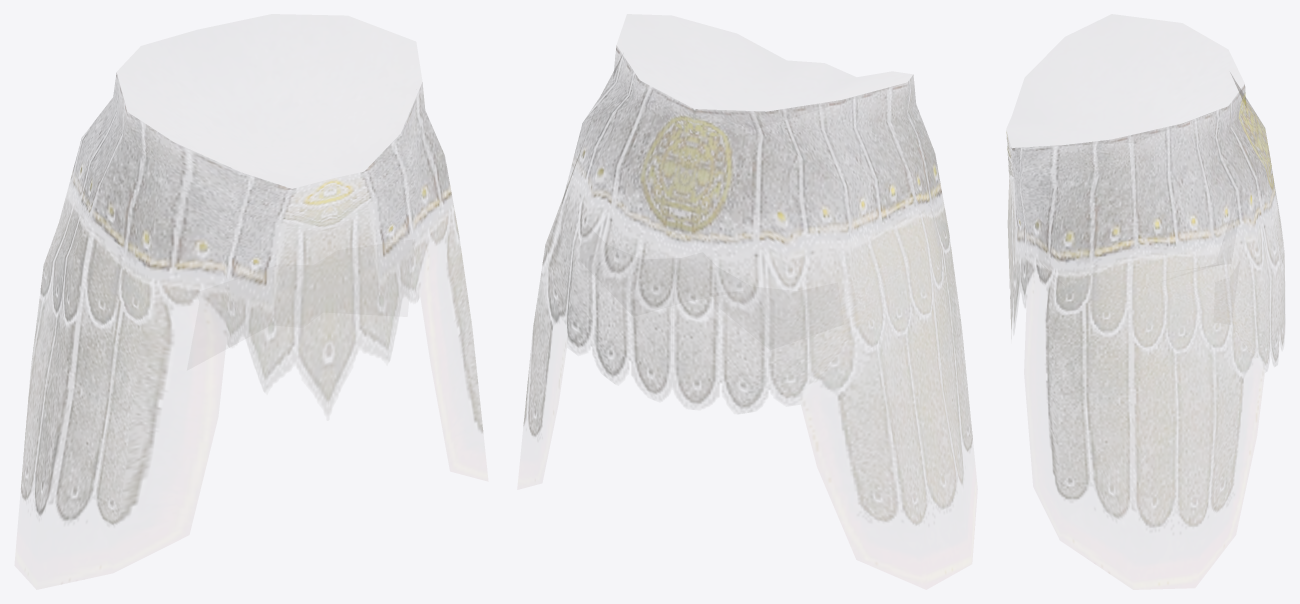
Rendered from light_03_la.glb.
3 views of the same model, side by side, from view 1: azimuth 30°, elevation 25°; view 2: azimuth 150°, elevation 25°; view 3: azimuth 270°, elevation 25° (orthographic). The views are drawn at different scales.
Visible parts, largest first — view 1: Light_03_la; view 2: Light_03_la; view 3: Light_03_la.
Part boxes in pixels (x1,y1,x2,y2): Light_03_la: (21,73,482,525); Light_03_la: (523,46,972,525); Light_03_la: (1006,73,1284,527).
Size of the model in its own units: 0.4203 by 0.4282 by 0.2562.
1 material, 1 textured.
